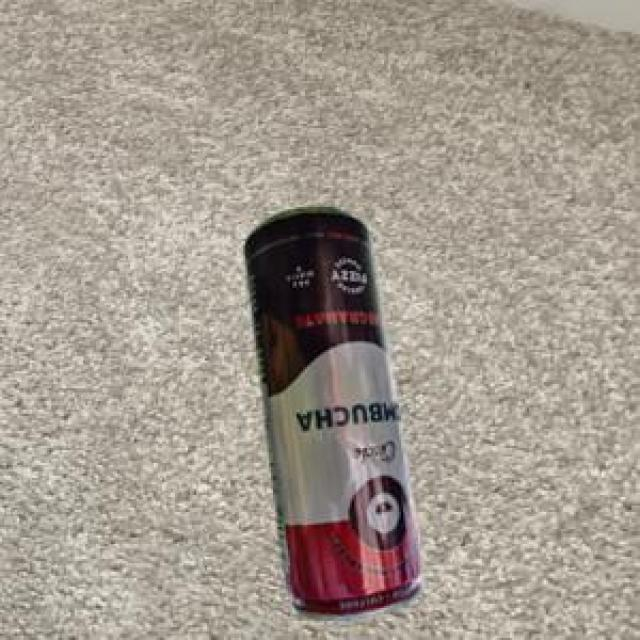logam: (242, 204, 421, 618)
